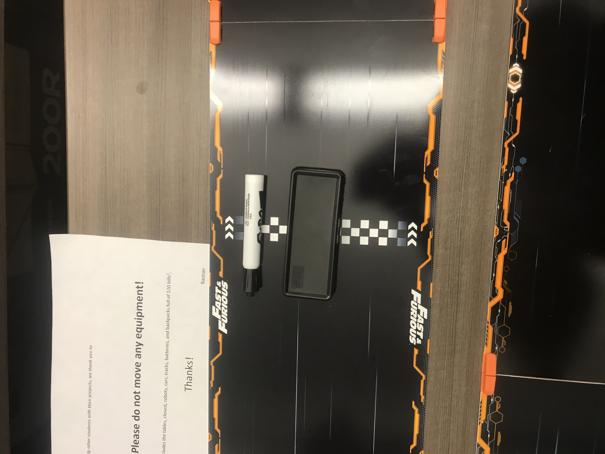Finish Line: (220, 214, 422, 249)
